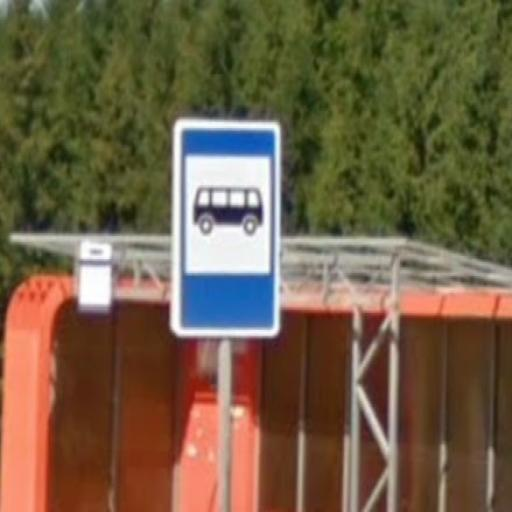traffic_sign: (172, 118, 281, 340)
